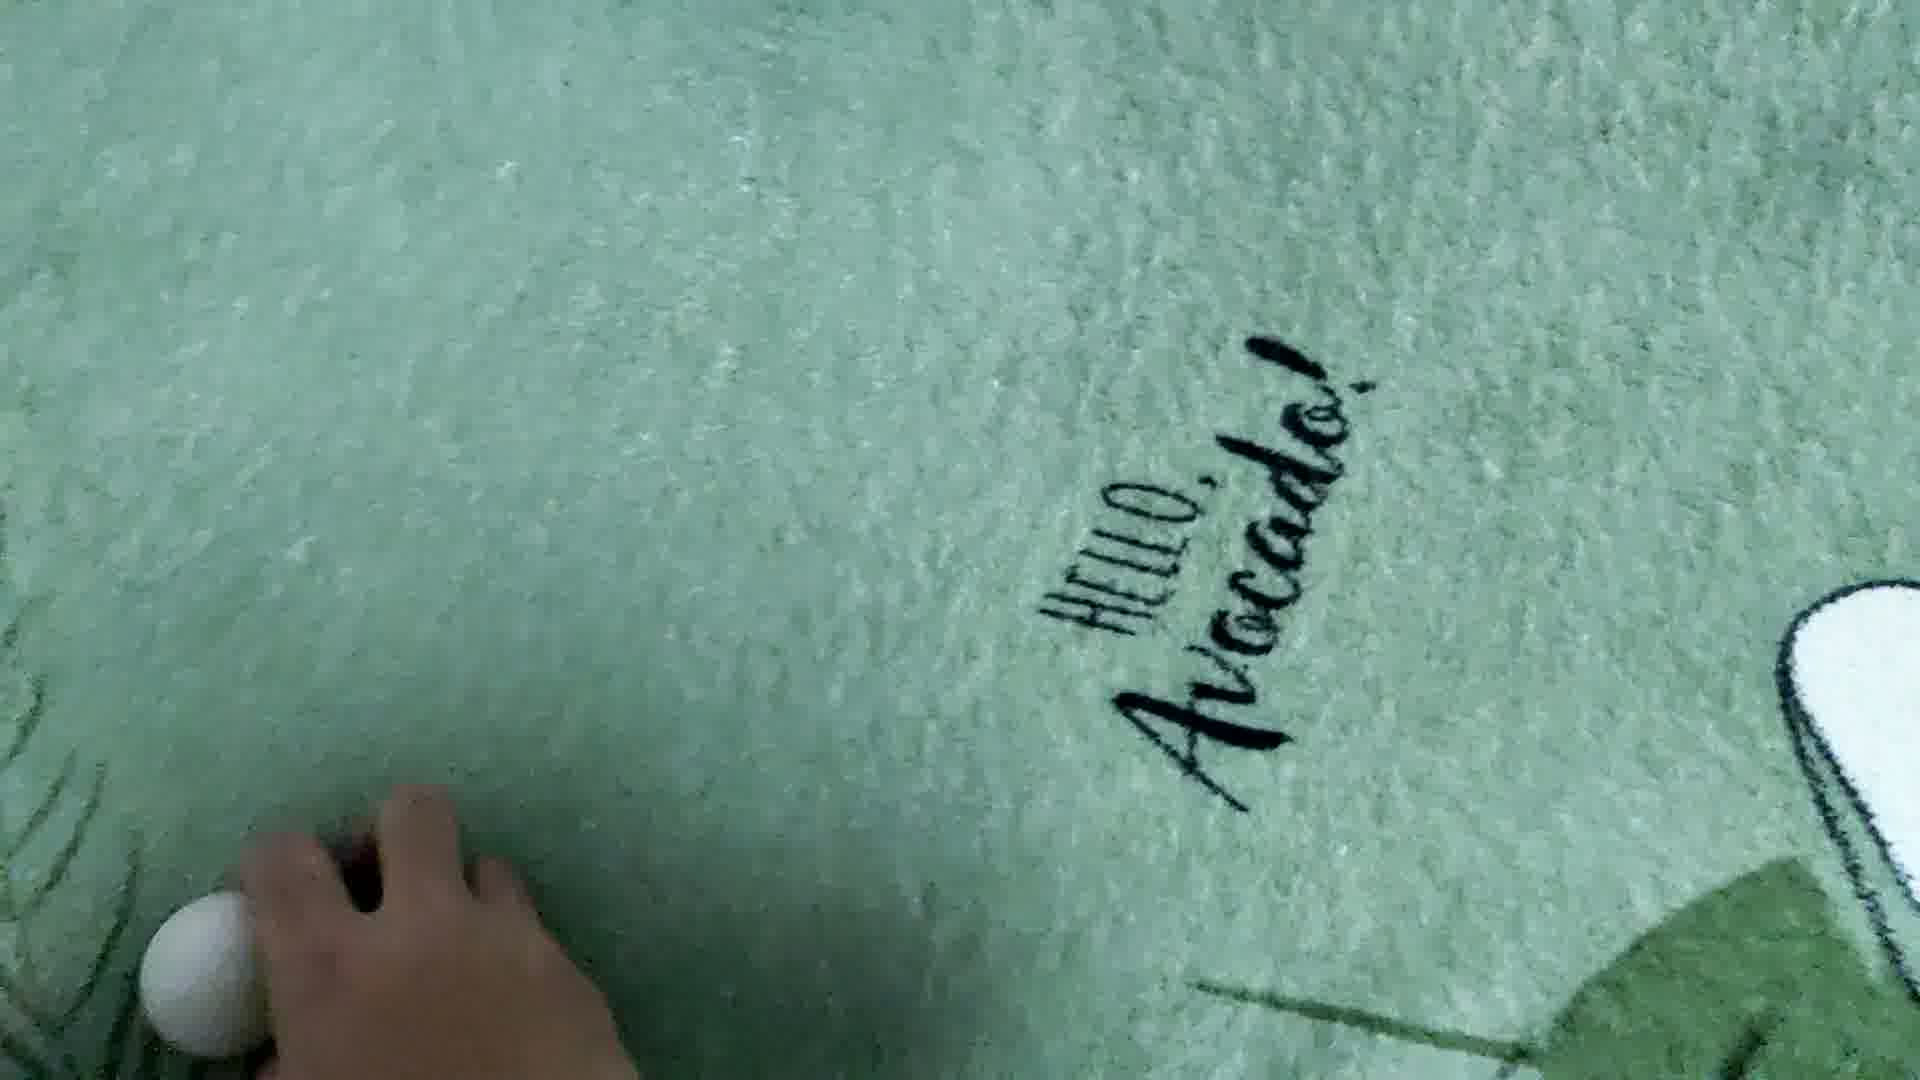Ball: (138, 887, 320, 1062)
